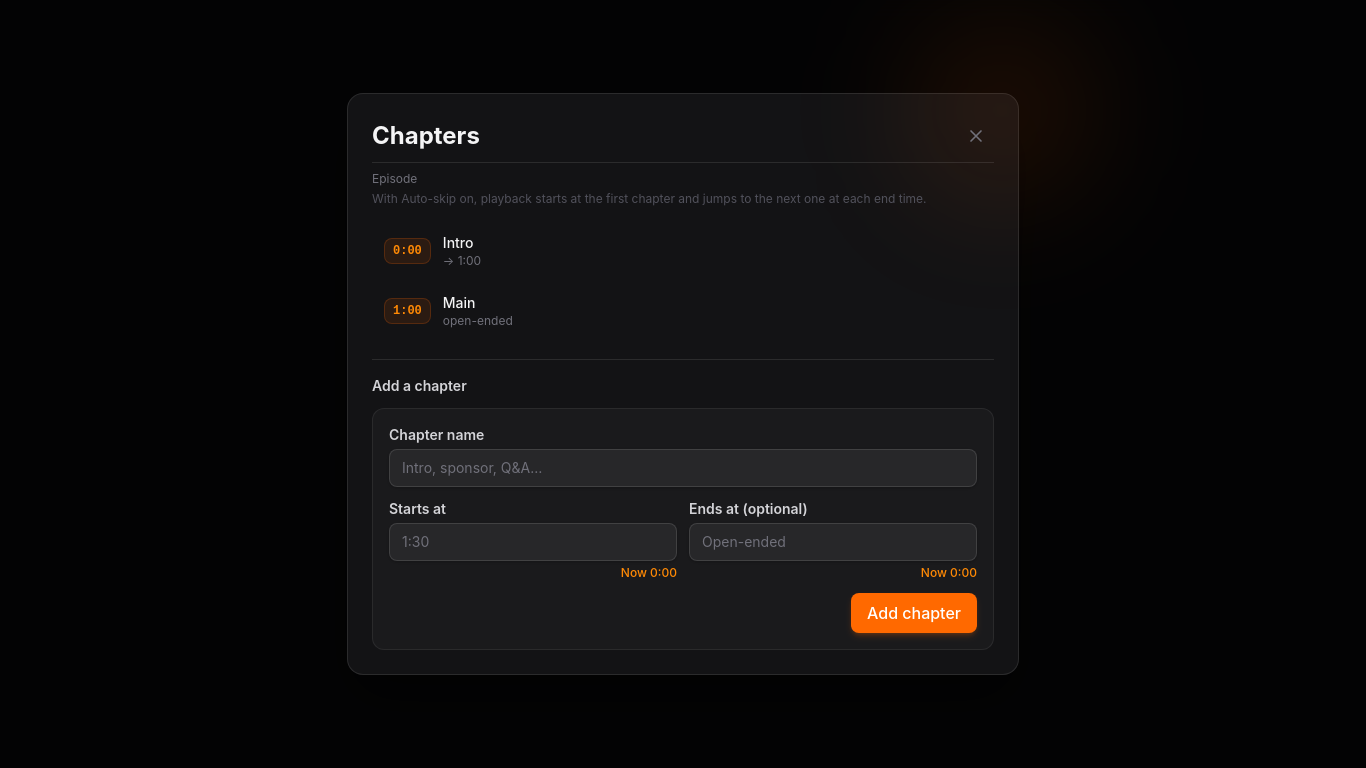
Scenario: TimestampManagerModal › shows a validation error for an end before the start
Expected: the text "Intro" is shown, [443,234,473,251]
Step 1. Type "Bad" into the field labelled "Chapter name" → (683, 468), box [389,449,977,487]
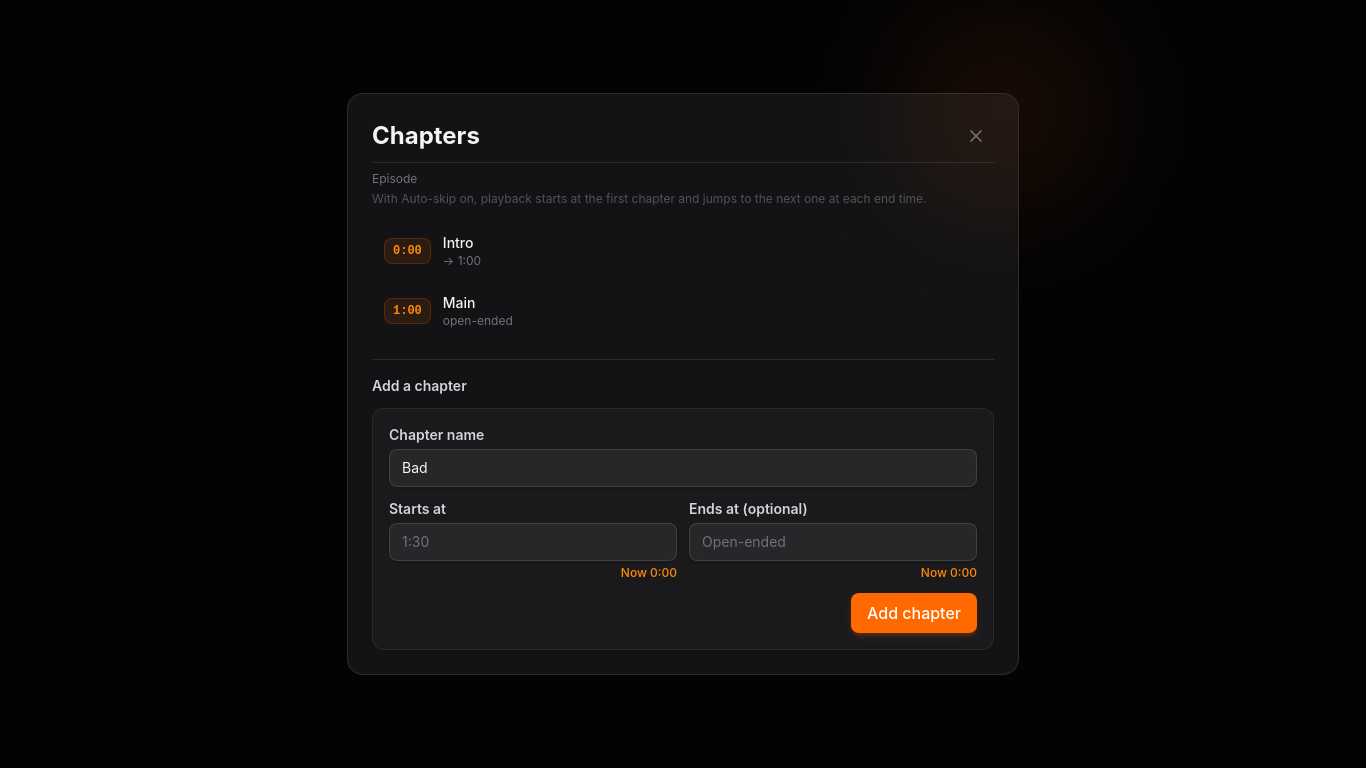
Step 2. Type "1:00" into the field labelled "Starts at" → (533, 542), box [389,523,677,561]
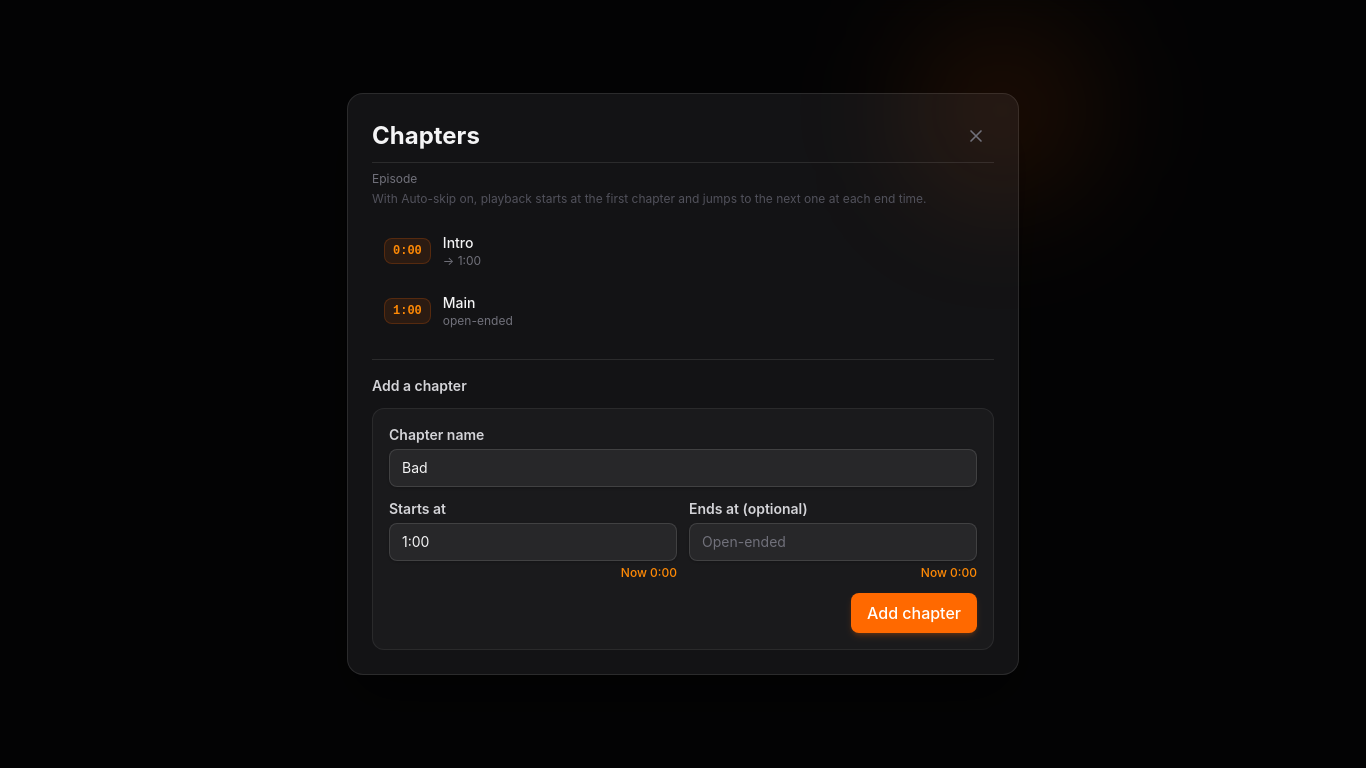
Step 3. Type "0:30" into the field labelled "Ends at (optional)" → (833, 542), box [689,523,977,561]
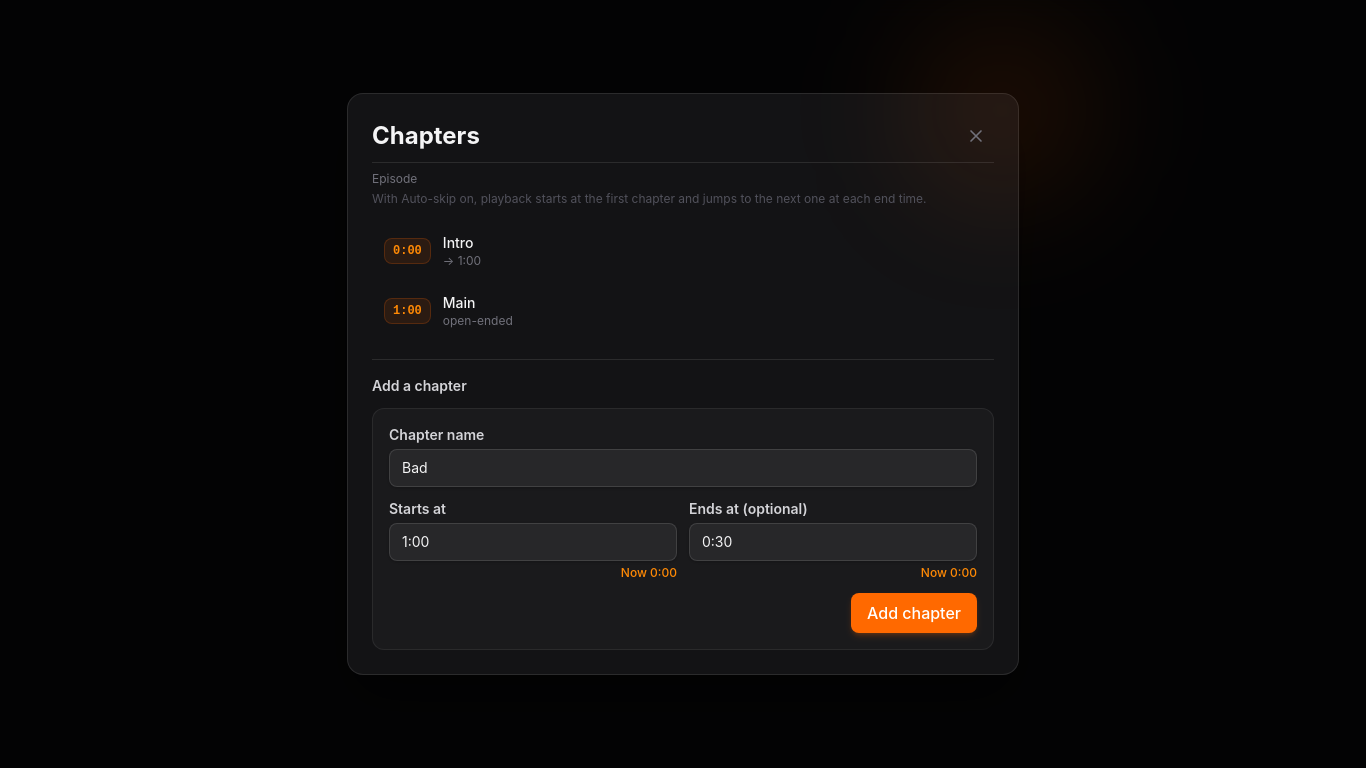
Step 4. Click the button "Add chapter" → click(914, 613), box [851,593,977,633]
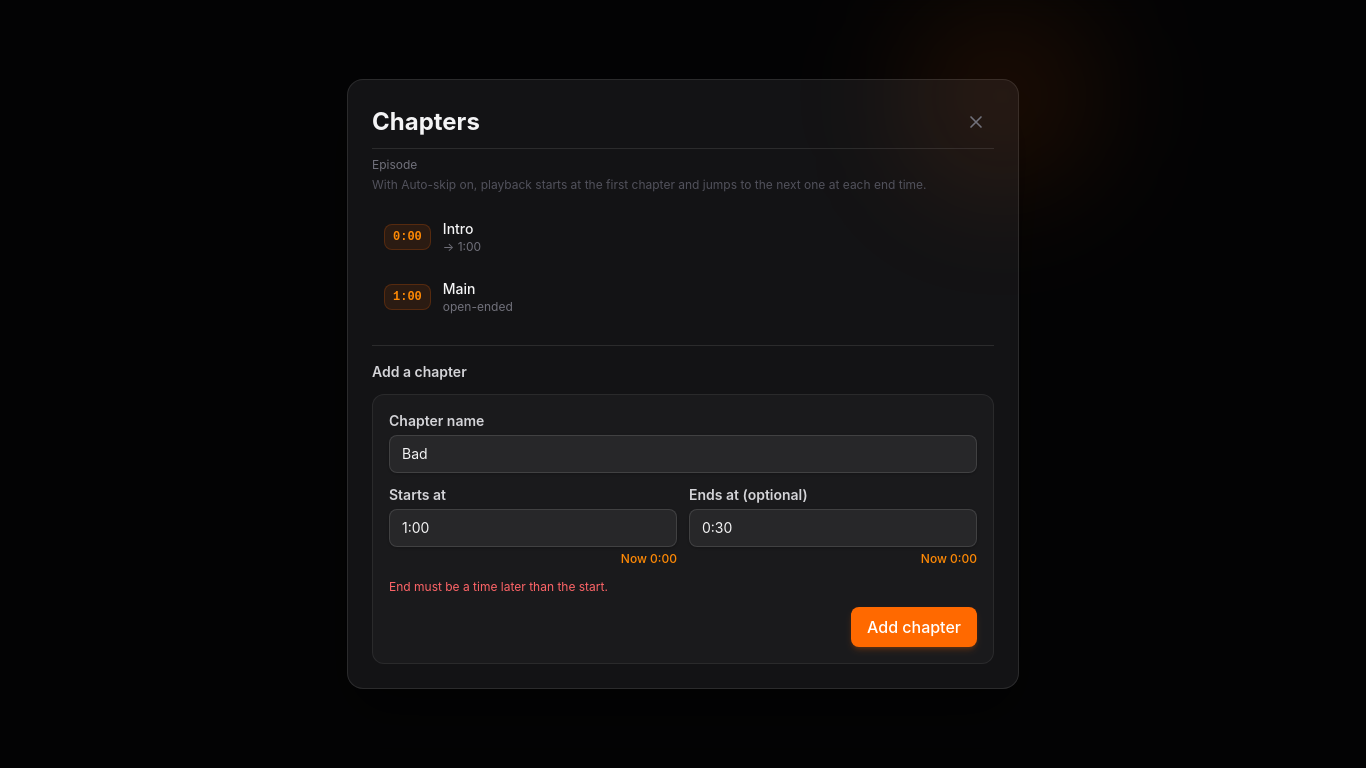
Now the text "End must be a time later than the start." is shown, box [389,579,608,594]
